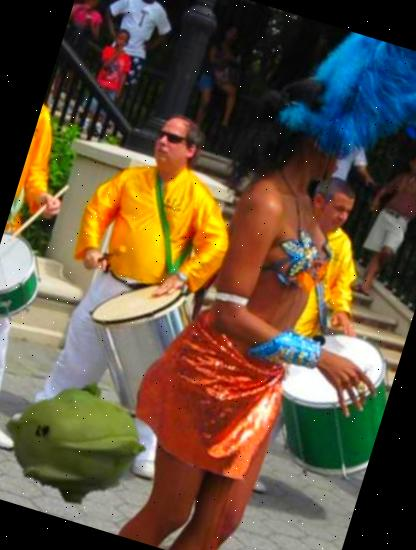Kohlrabi: (0, 351, 165, 531)
